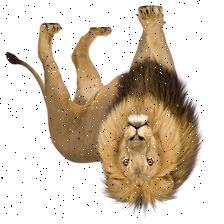Lion: (0, 0, 204, 219)
